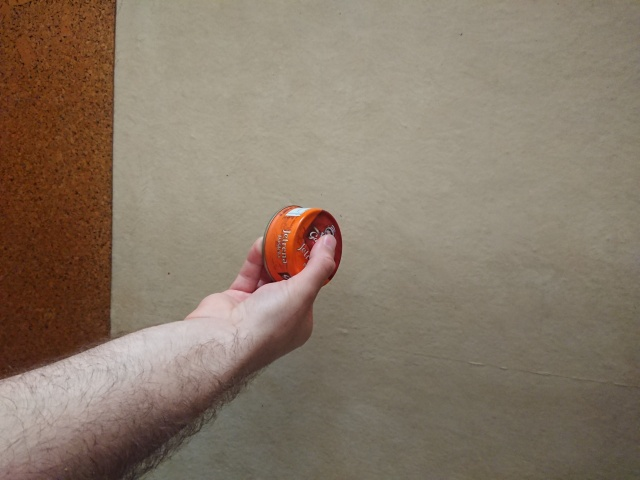Gavrilovic Pork Liver Pate 100g: (258, 203, 344, 290)
